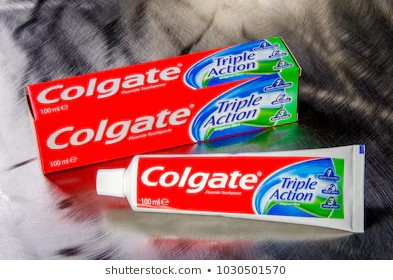colgate-small: (19, 28, 310, 174)
